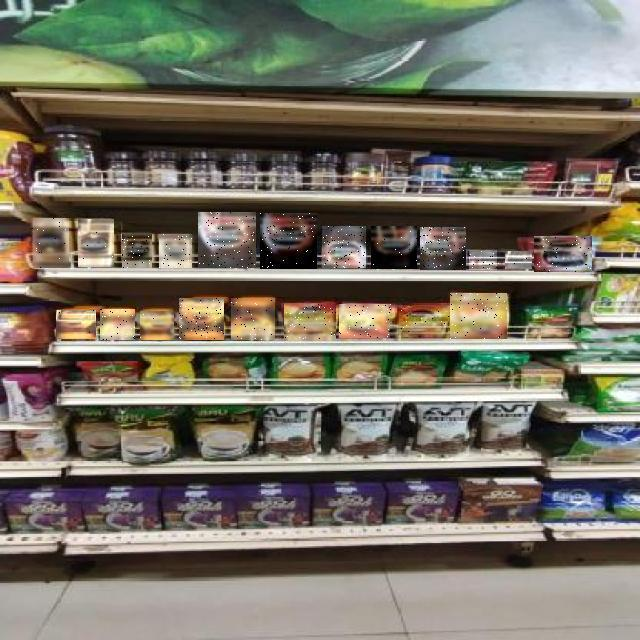Coffee: (198, 212, 256, 268), (260, 213, 317, 269), (450, 293, 507, 339), (534, 236, 592, 272), (371, 226, 417, 269), (420, 227, 466, 270), (179, 298, 224, 340), (284, 304, 336, 340), (323, 226, 367, 268), (231, 298, 275, 340), (398, 304, 450, 339), (33, 218, 69, 268), (340, 304, 392, 338), (78, 219, 114, 267), (56, 310, 96, 339), (159, 234, 192, 268), (100, 309, 135, 340), (122, 234, 152, 268), (140, 311, 174, 340), (470, 250, 500, 270), (505, 251, 532, 269)
